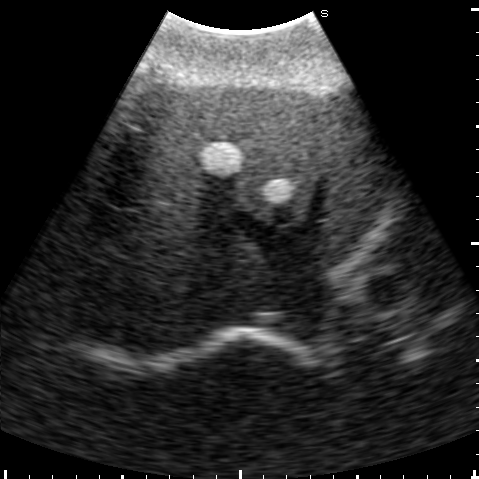S2: (320, 99, 387, 261)
S4: (125, 79, 325, 226)
S7: (65, 263, 211, 352)
S8: (95, 167, 272, 288)
Tumor: (199, 141, 242, 176), (260, 179, 292, 202)
